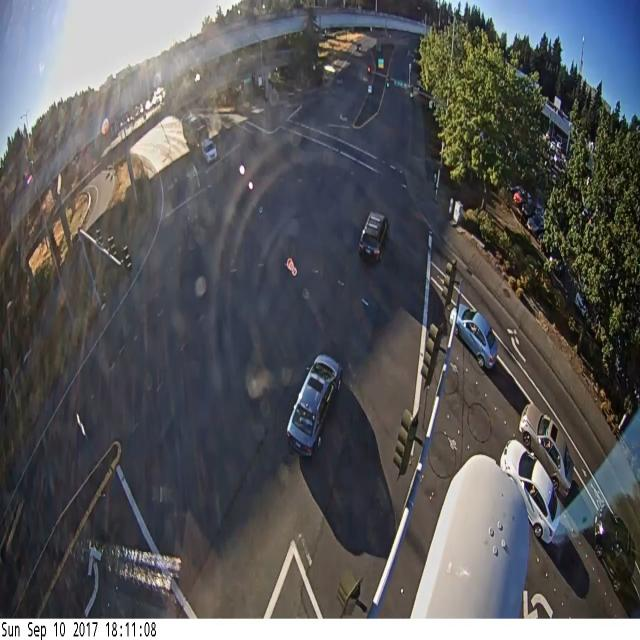car: (501, 440, 559, 543), (287, 355, 341, 456), (519, 403, 573, 495), (595, 506, 635, 591), (455, 303, 497, 368), (359, 212, 388, 260), (201, 138, 217, 164), (527, 214, 543, 239), (574, 290, 588, 317), (513, 188, 532, 207)
